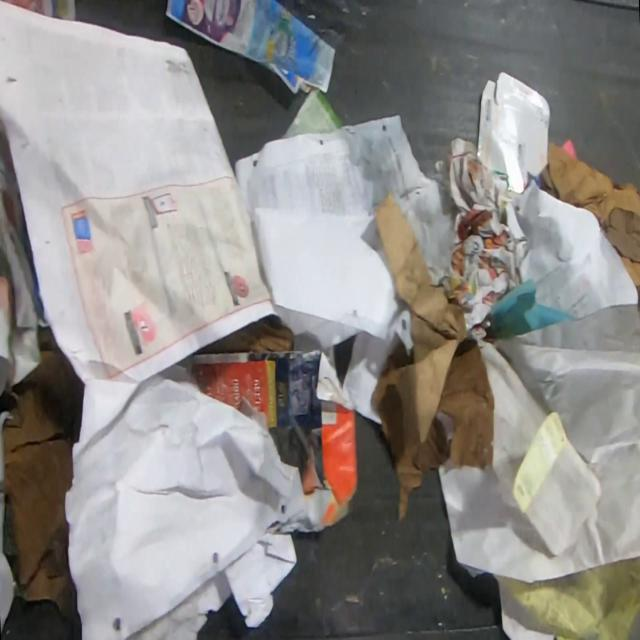cardboard: (185, 349, 359, 536), (374, 188, 475, 456), (0, 324, 84, 624), (371, 339, 495, 525), (540, 139, 640, 289), (475, 68, 552, 195), (194, 317, 294, 353)
